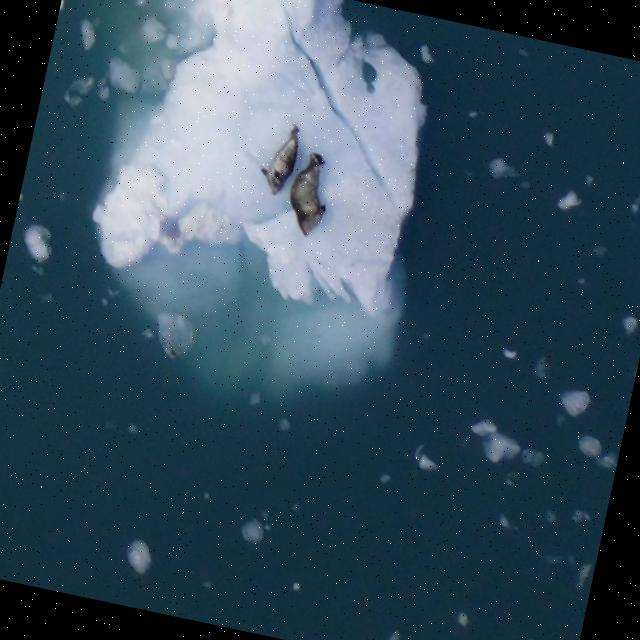seal: (289, 153, 325, 238), (260, 125, 299, 195)
